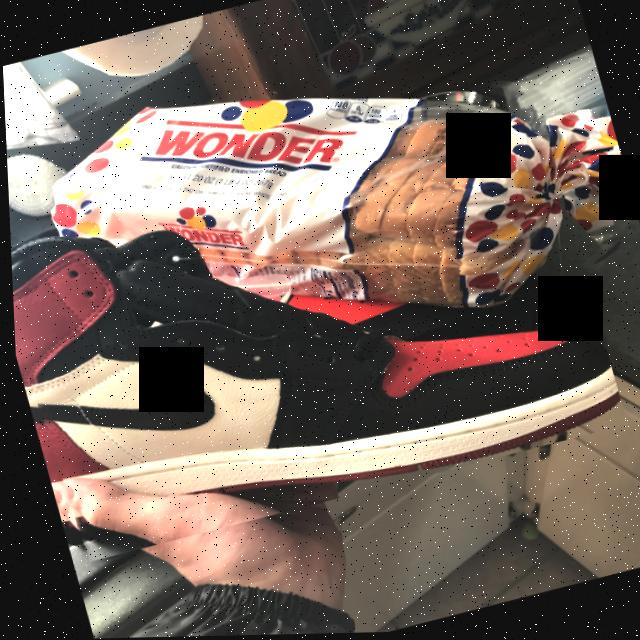shoe: (5, 119, 627, 567)
